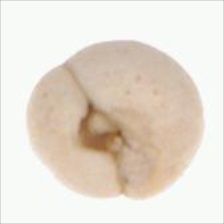L3: (76, 93, 133, 164)
L4: (27, 40, 205, 202)
